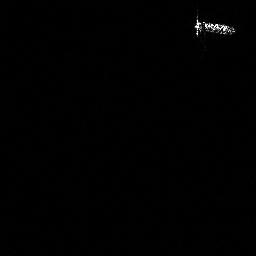ship: (194, 19, 234, 34)
